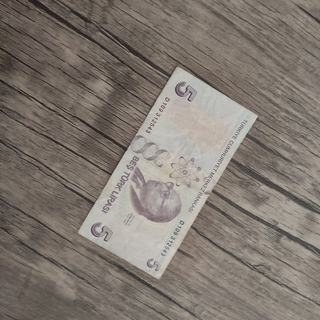5TLBack: (76, 65, 259, 280)
